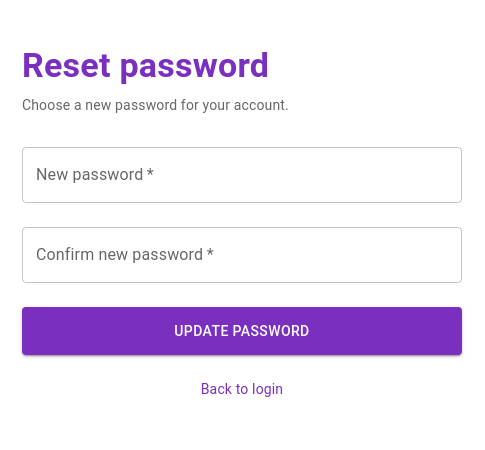
Test: ResetPassword › shows error when password is too short
Type "abc" into the password field labelled "New password *" at (242, 175), box [22,147,462,203]
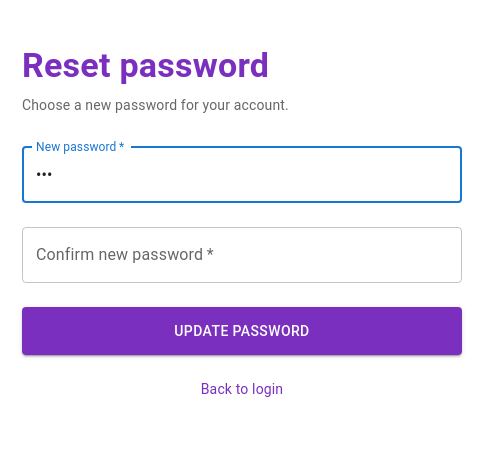
Type "abc" into the password field labelled "Confirm new password *" at (242, 255), box [22,227,462,283]
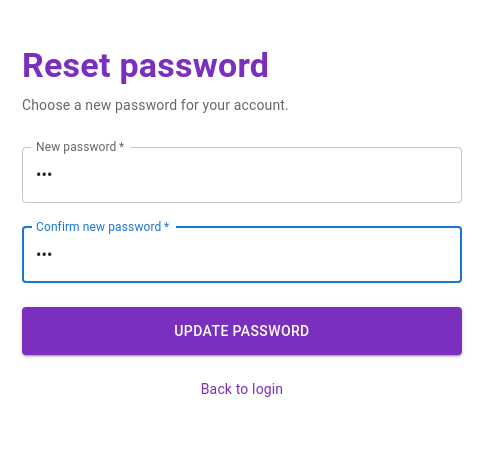
Click the button "Update password" at (242, 331), box [22,307,462,355]
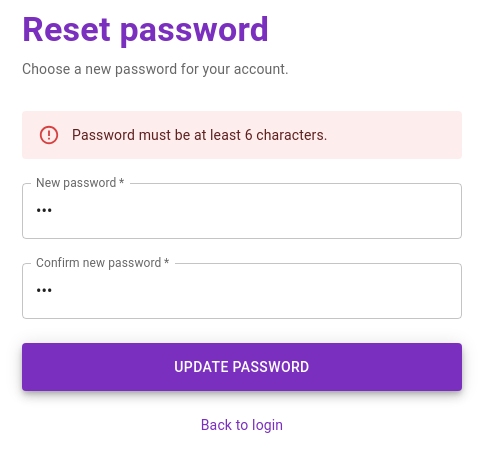
Result: the message shows "at least 6 characters" at [72,127,328,143]
